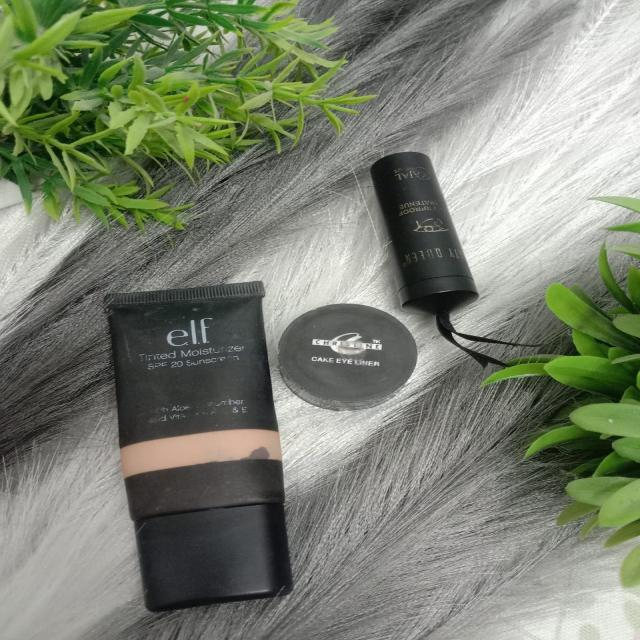bb cream: (81, 276, 298, 616)
lip stick: (354, 152, 507, 312)
